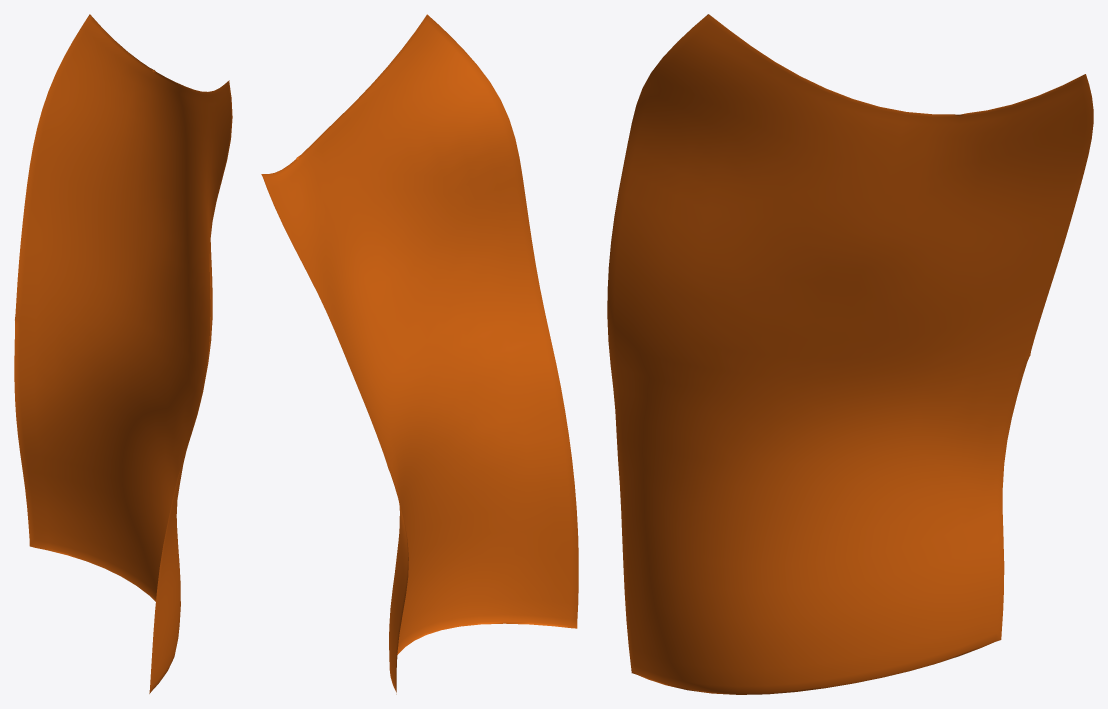
File: lateral-L.glb
3 views of the same model, side by side, from view 1: azimuth 30°, elevation 25°; view 2: azimuth 150°, elevation 25°; view 3: azimuth 270°, elevation 25° (orthographic). The views are drawn at different scales.
Parts seen in each view (by area): view 1: lateral-L; view 2: lateral-L; view 3: lateral-L.
Part boxes in pixels (x1=…): lateral-L: x1=14, y1=14, x2=232, y2=693; lateral-L: x1=261, y1=14, x2=578, y2=694; lateral-L: x1=607, y1=14, x2=1093, y2=694.
Bounding box in the file's own units: 0.0721 × 0.2912 × 0.1762.
